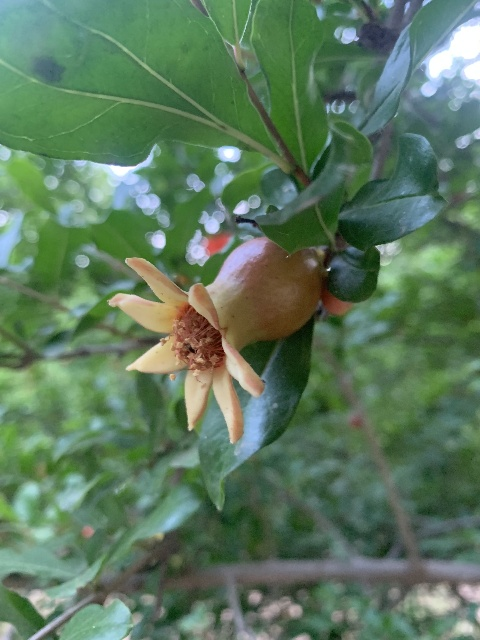bud: (322, 282, 353, 316)
early-fruit: (108, 236, 324, 443)
